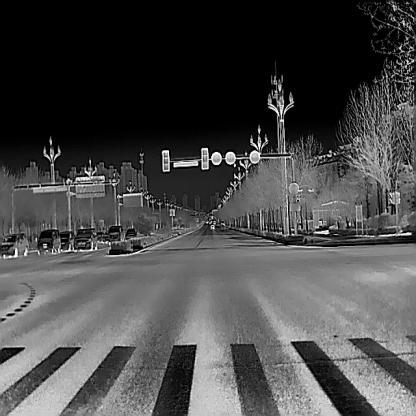car: (0, 233, 28, 260), (72, 226, 97, 253), (36, 227, 60, 254), (108, 224, 124, 245), (59, 230, 74, 251), (124, 224, 137, 240), (220, 223, 226, 230), (210, 223, 214, 229)
